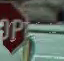Stop: (0, 1, 36, 56)
